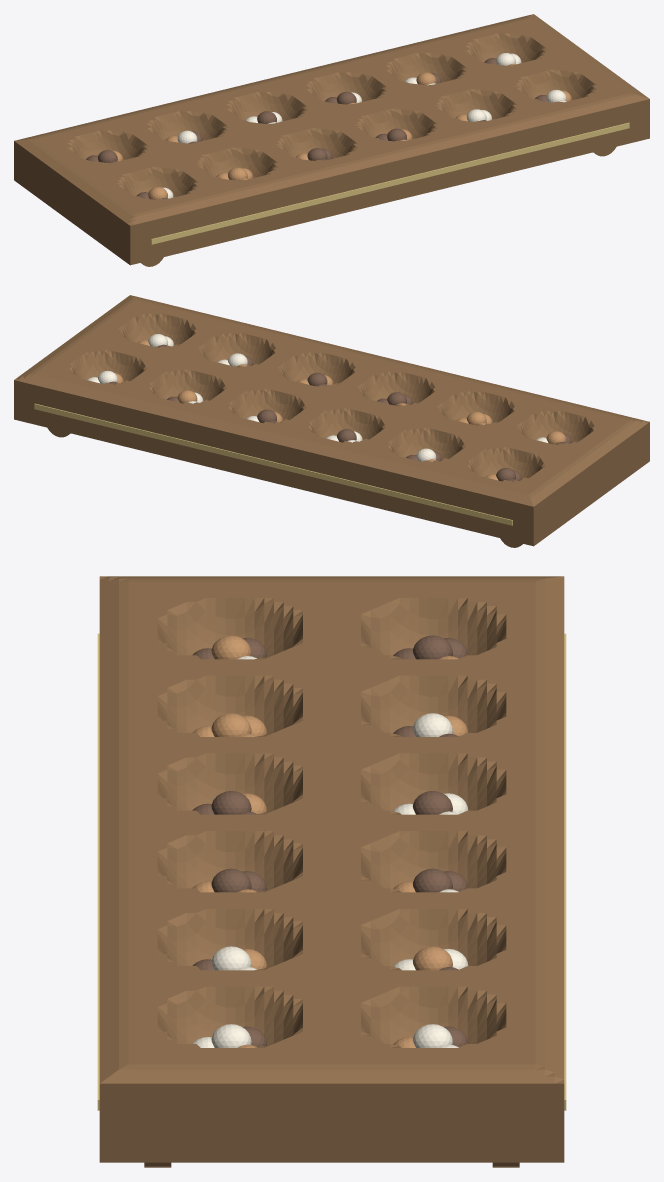
Rendered from exhibit8_oware_board.glb.
3 views of the same model, one above another, from view 1: azimuth 30°, elevation 25°; view 2: azimuth 150°, elevation 25°; view 3: azimuth 270°, elevation 25° (orthographic). The views are drawn at different scales.
Parts seen in each view (by area): view 1: board_top, board_walls, inlay_1, board_base; view 2: board_top, board_walls, inlay_0, board_base; view 3: board_top, board_walls, board_base, inlay_0, inlay_1.
Boxes of the visible parts, bbox=[...] form: board_top: bbox=[14, 14, 649, 225]; board_walls: bbox=[14, 99, 649, 264]; inlay_1: bbox=[151, 122, 629, 244]; board_base: bbox=[14, 137, 649, 265]; board_top: bbox=[14, 295, 649, 506]; board_walls: bbox=[14, 380, 649, 545]; inlay_0: bbox=[34, 403, 512, 525]; board_base: bbox=[14, 418, 649, 546]; board_top: bbox=[99, 576, 564, 1083]; board_walls: bbox=[99, 1083, 564, 1160]; board_base: bbox=[99, 1159, 564, 1162]; inlay_0: bbox=[564, 633, 566, 1110]; inlay_1: bbox=[97, 633, 99, 1110].
Bounding box in the file's own units: 0.62 × 0.069 × 0.242.
